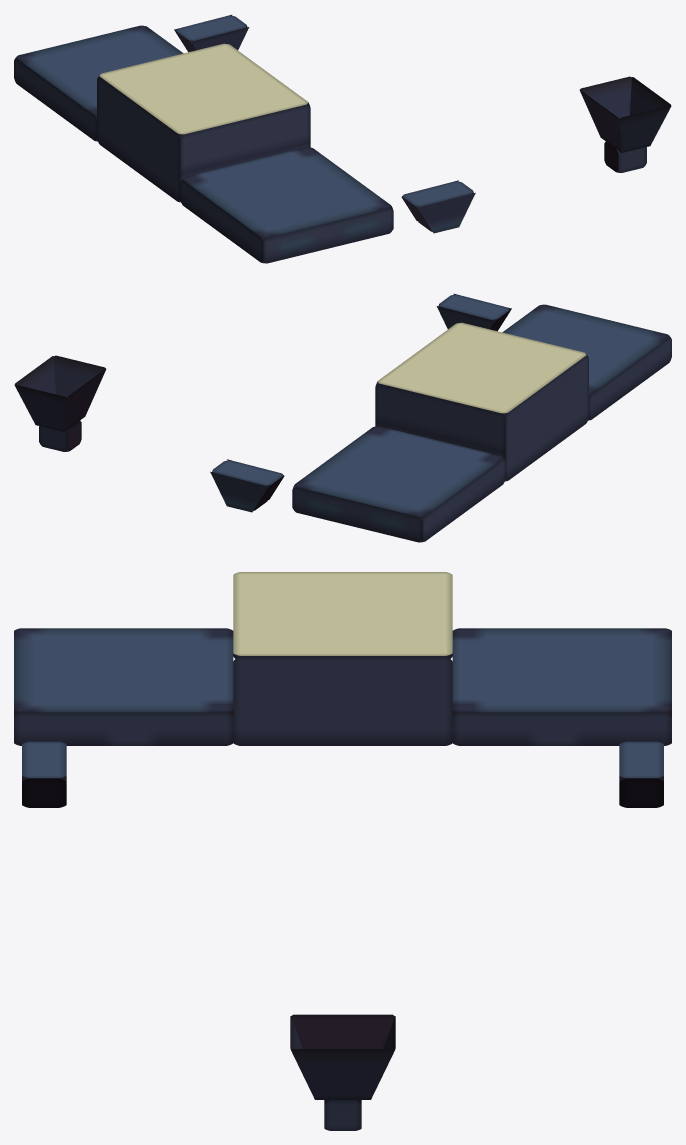
Rendered from hxd3d_bogey_top_a.obj.
The picture shows the model from 3 angles, top to bottom: view 1: azimuth 30°, elevation 25°; view 2: azimuth 150°, elevation 25°; view 3: azimuth 270°, elevation 25°; orthographic projection. The views are drawn at different scales.
Visible parts, largest first — view 1: 定位; view 2: 定位; view 3: 定位.
Part boxes in pixels (x1,y1,x2,y2): 定位: [14, 14, 671, 263]; 定位: [14, 293, 671, 542]; 定位: [14, 572, 671, 1130].
Bounding box in the file's own units: 3.94 × 1.31 × 3.31.
